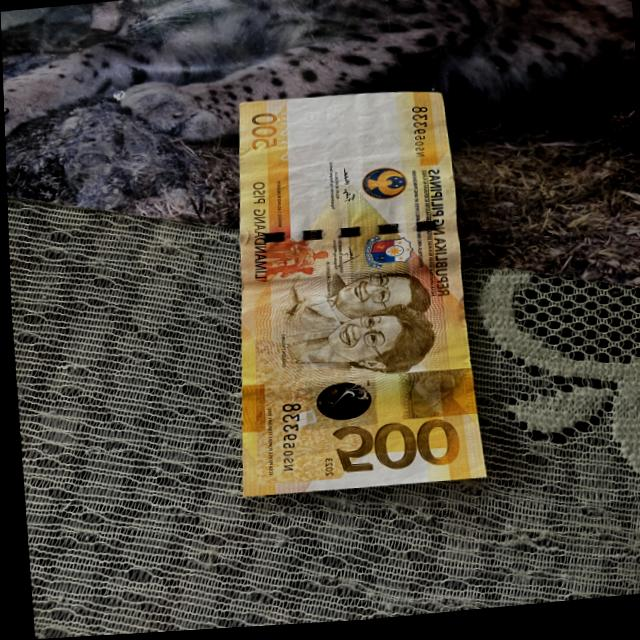concealed_value: (394, 371, 473, 425)
optically_variable_device: (301, 382, 372, 431)
security_thread: (237, 220, 456, 252)
see_through_mark: (274, 113, 294, 167)
serial_number: (274, 400, 309, 482), (409, 107, 432, 165)
value: (327, 421, 461, 478)
value_watermark: (306, 113, 338, 127)
